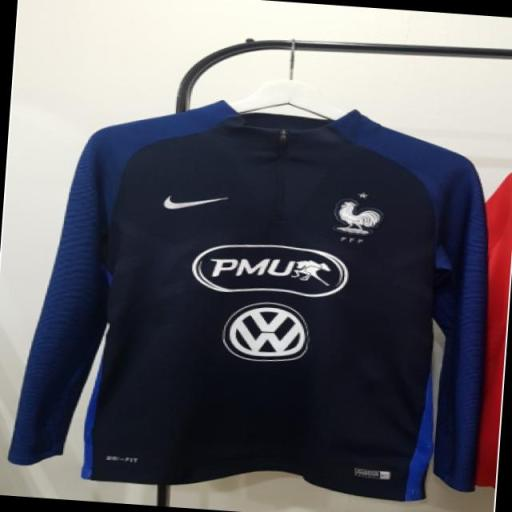Nike: (158, 188, 232, 218)
